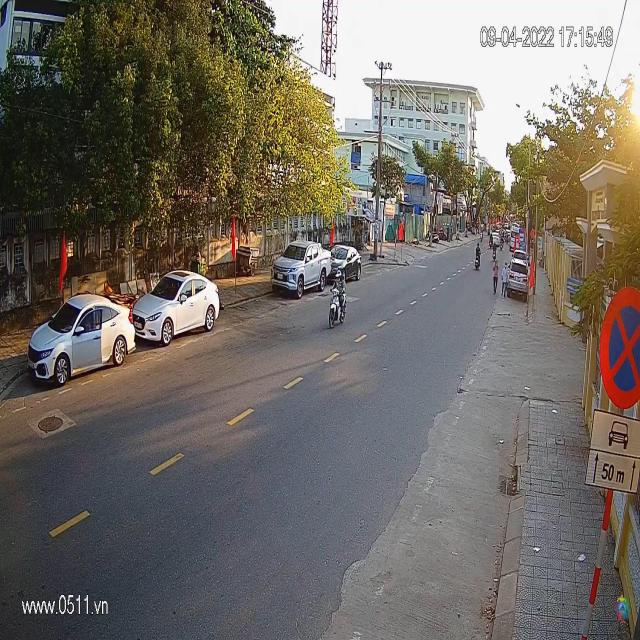car: (27, 290, 136, 386), (129, 271, 221, 347), (272, 243, 332, 299), (328, 245, 362, 281)
motorcycle: (327, 280, 349, 332)
